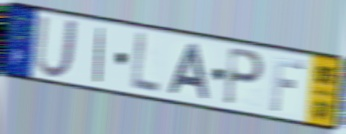A: (167, 42, 212, 102)
F: (269, 55, 307, 114)
I: (93, 25, 106, 85)
L: (129, 30, 162, 97)
P: (222, 45, 266, 109)
U: (33, 13, 80, 80)
